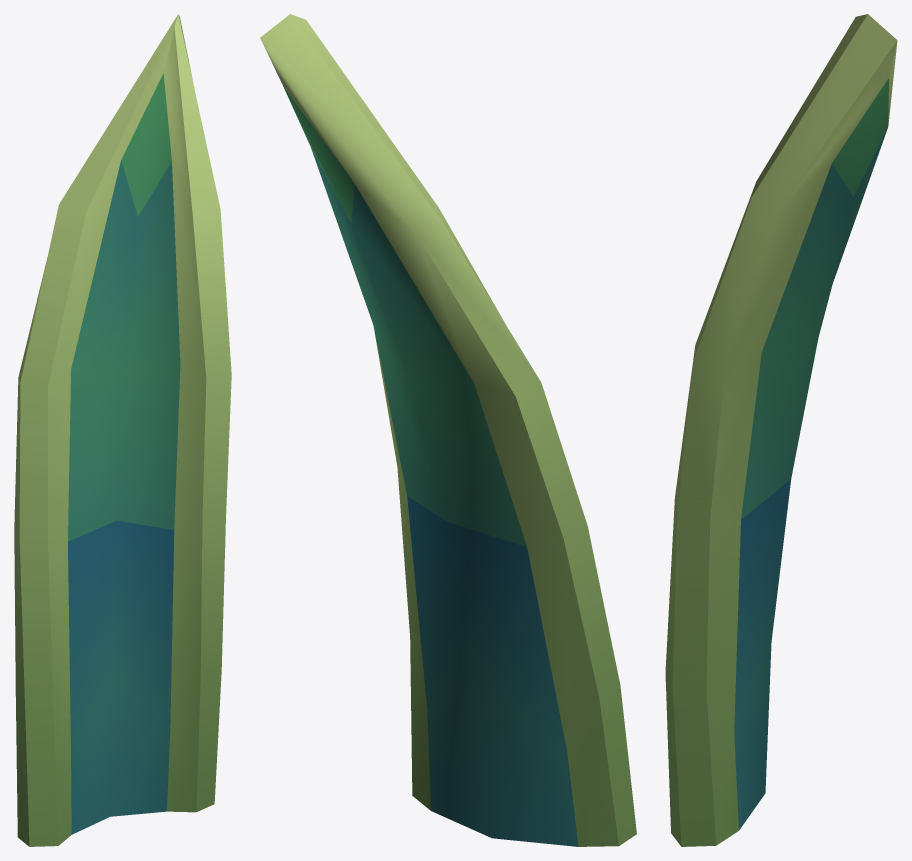
File: sansevieria_leaf_medium_C.fbx
3 views of the same model, side by side, from view 1: azimuth 30°, elevation 25°; view 2: azimuth 150°, elevation 25°; view 3: azimuth 270°, elevation 25° (orthographic). The views are drawn at different scales.
Visible parts, largest first — view 1: sansevieria_leaf_medium_C; view 2: sansevieria_leaf_medium_C; view 3: sansevieria_leaf_medium_C.
Boxes of the visible parts, <box> form: sansevieria_leaf_medium_C: <box>14,14,231,846</box>; sansevieria_leaf_medium_C: <box>260,14,636,846</box>; sansevieria_leaf_medium_C: <box>665,14,897,846</box>.
Size of the model in its own units: 39.04 by 112 by 27.48.
Materials: 1 (1 with a texture image).
